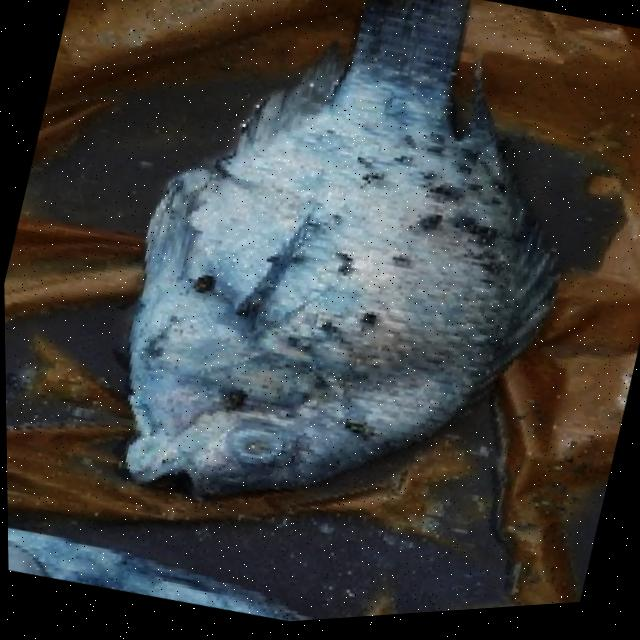Non-Fresh: (60, 0, 569, 587)
